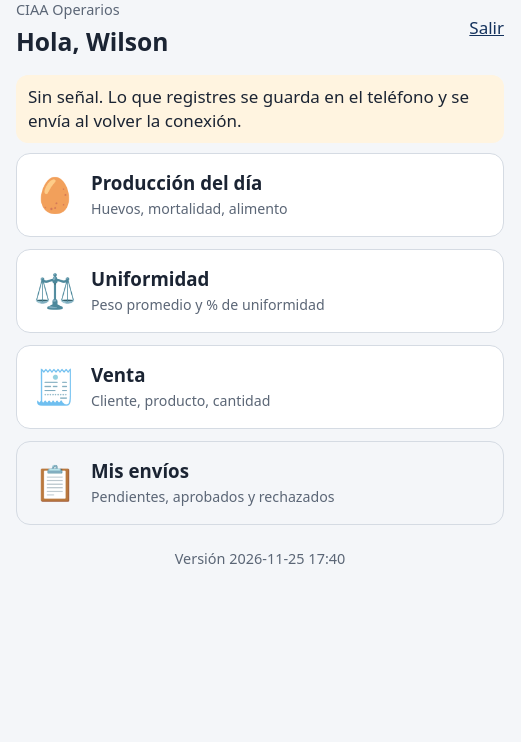
Scenario: sin señal guarda en el teléfono
Click the button "Producción del día" at (260, 195), box [16,153,504,237]
(page scrolled)
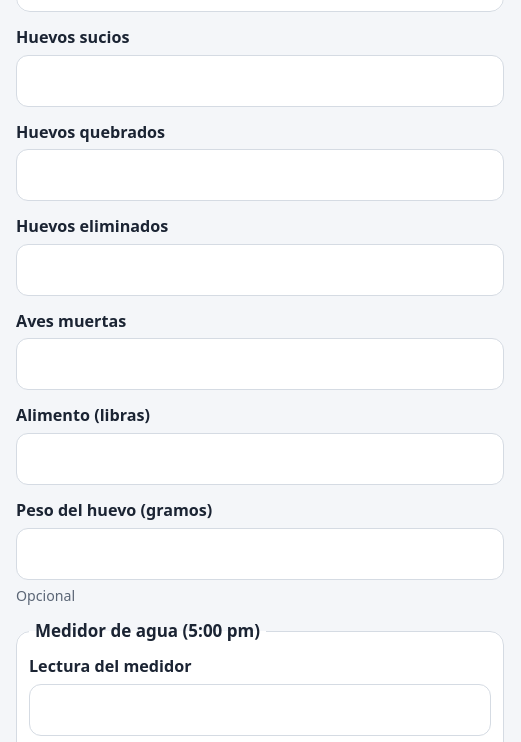
Type "1" into the field labelled "Aves muertas" at (260, 364), box [16,338,504,390]
(page scrolled)
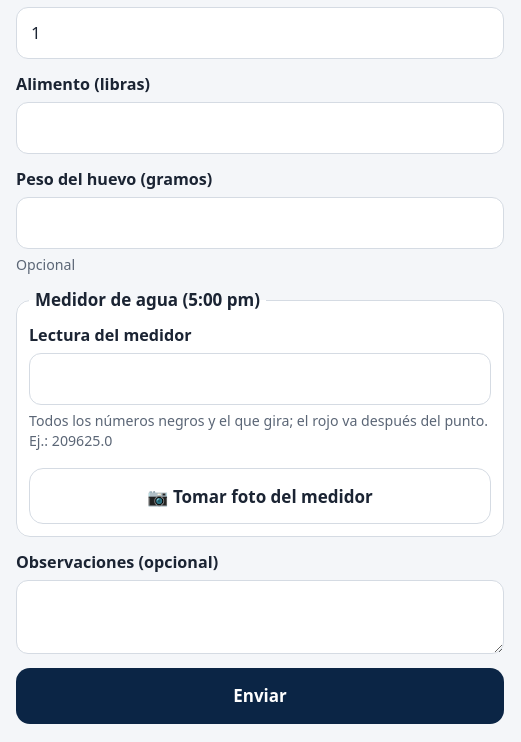
Click the button "Enviar" at (260, 696), box [16,668,504,724]
(page scrolled)
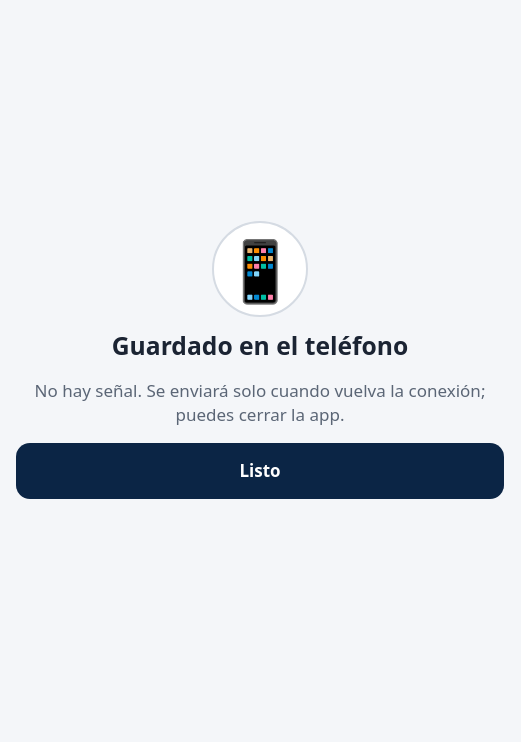
Expected: the heading "Guardado en el teléfono" is shown, [112,329,408,363]
